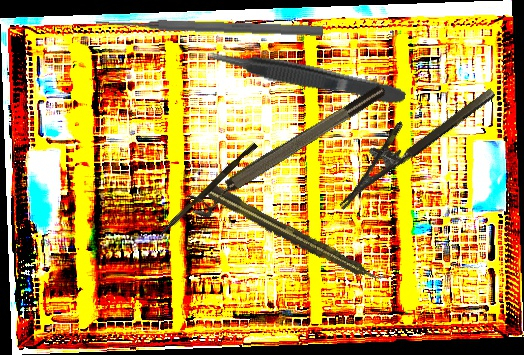Fixation Ring: (183, 80, 395, 223)
Handpiece: (204, 181, 388, 291)
Needle Holder: (320, 66, 498, 211)
Pusher: (157, 140, 258, 241), (95, 15, 324, 38)
Tissue Forceps: (205, 42, 408, 112)
